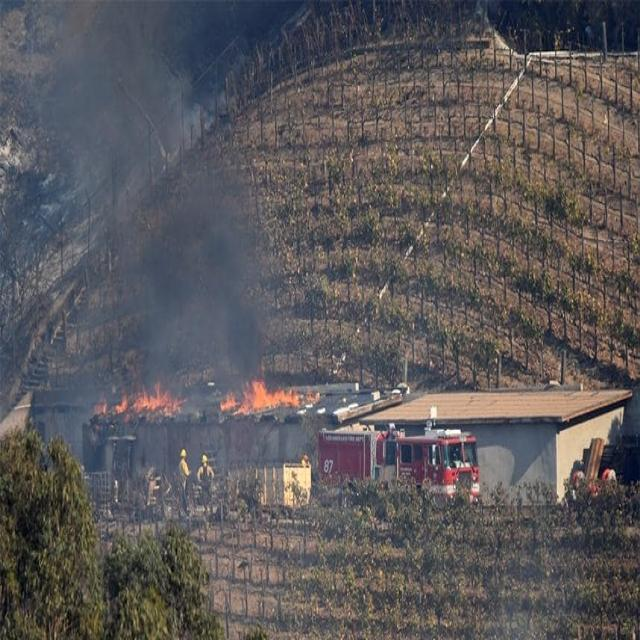Fire: (102, 360, 187, 426), (217, 373, 304, 422), (220, 396, 238, 424), (111, 392, 130, 414)
Smoke: (45, 23, 282, 378), (134, 143, 261, 377)
